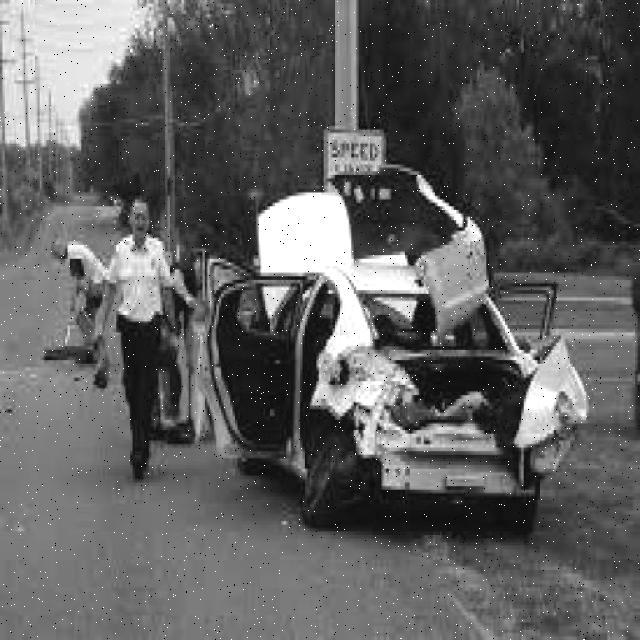car damage: (294, 165, 593, 504)
